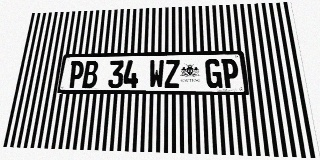3: (108, 60, 124, 88)
4: (123, 60, 139, 88)
B: (82, 61, 99, 88)
G: (205, 59, 223, 88)
P: (221, 59, 240, 88), (67, 61, 85, 88)
W: (149, 60, 164, 88)
Z: (164, 59, 180, 88)
